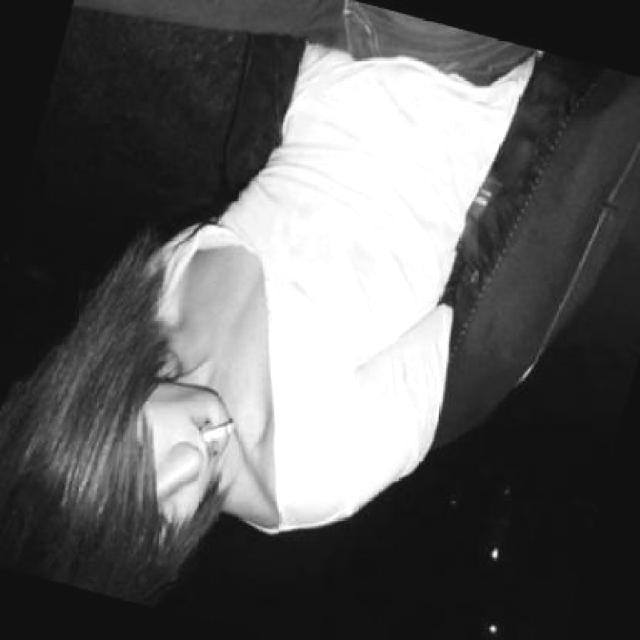smoke: (200, 410, 240, 448)
